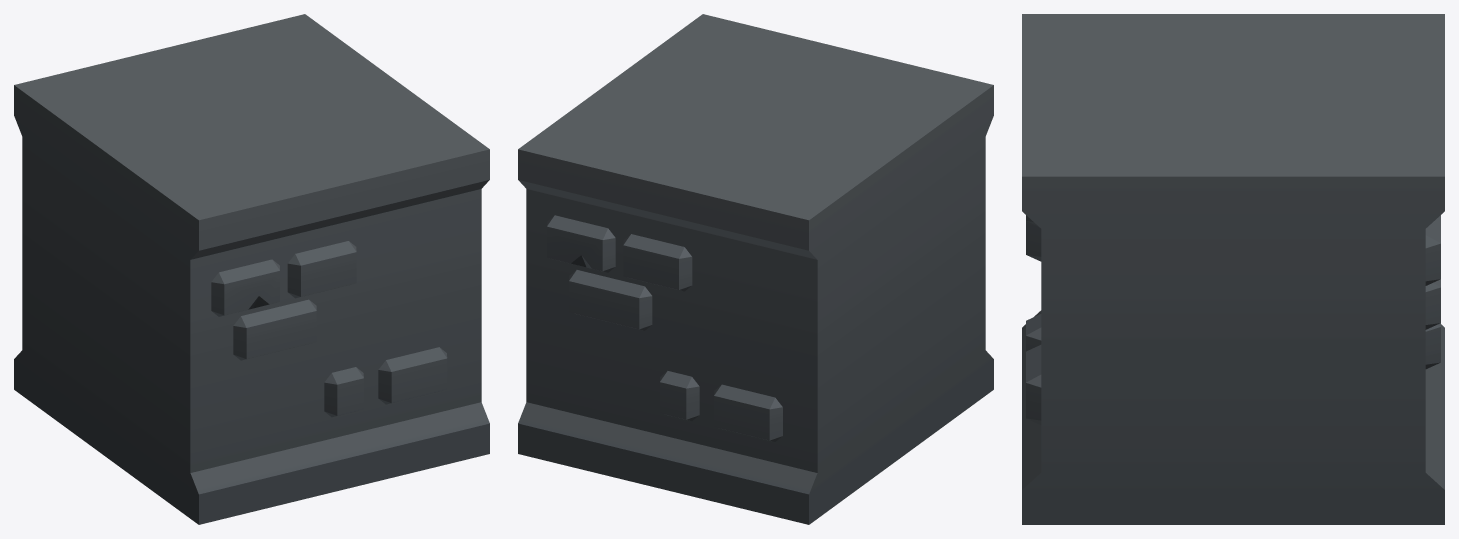
The model's file is floor-foundation-front-and-back-gltf.glb.
3 renders of one model, left to right at view 1: azimuth 30°, elevation 25°; view 2: azimuth 150°, elevation 25°; view 3: azimuth 270°, elevation 25°, orthographic. The views are drawn at different scales.
Parts seen in each view (by area): view 1: floor_foundation_front_and_back; view 2: floor_foundation_front_and_back; view 3: floor_foundation_front_and_back.
Part boxes in pixels (x1=…): floor_foundation_front_and_back: x1=14, y1=14, x2=489, y2=524; floor_foundation_front_and_back: x1=518, y1=14, x2=993, y2=524; floor_foundation_front_and_back: x1=1022, y1=14, x2=1444, y2=524.
Size of the model in its own units: 2 by 2 by 2.2.
Materials: 1 (1 with a texture image).
